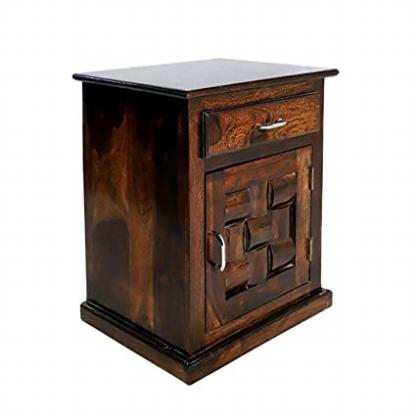table: (69, 56, 332, 384)
